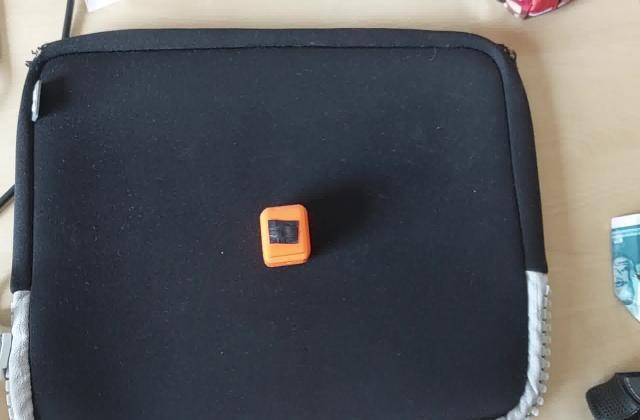black: (264, 215, 302, 248)
sticker: (256, 202, 312, 272)
